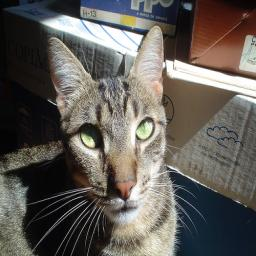catnose: (113, 180, 136, 202)
